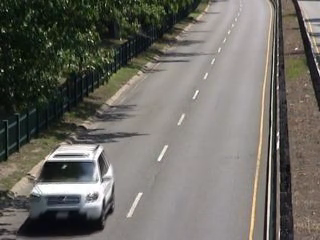car: (22, 140, 118, 234)
